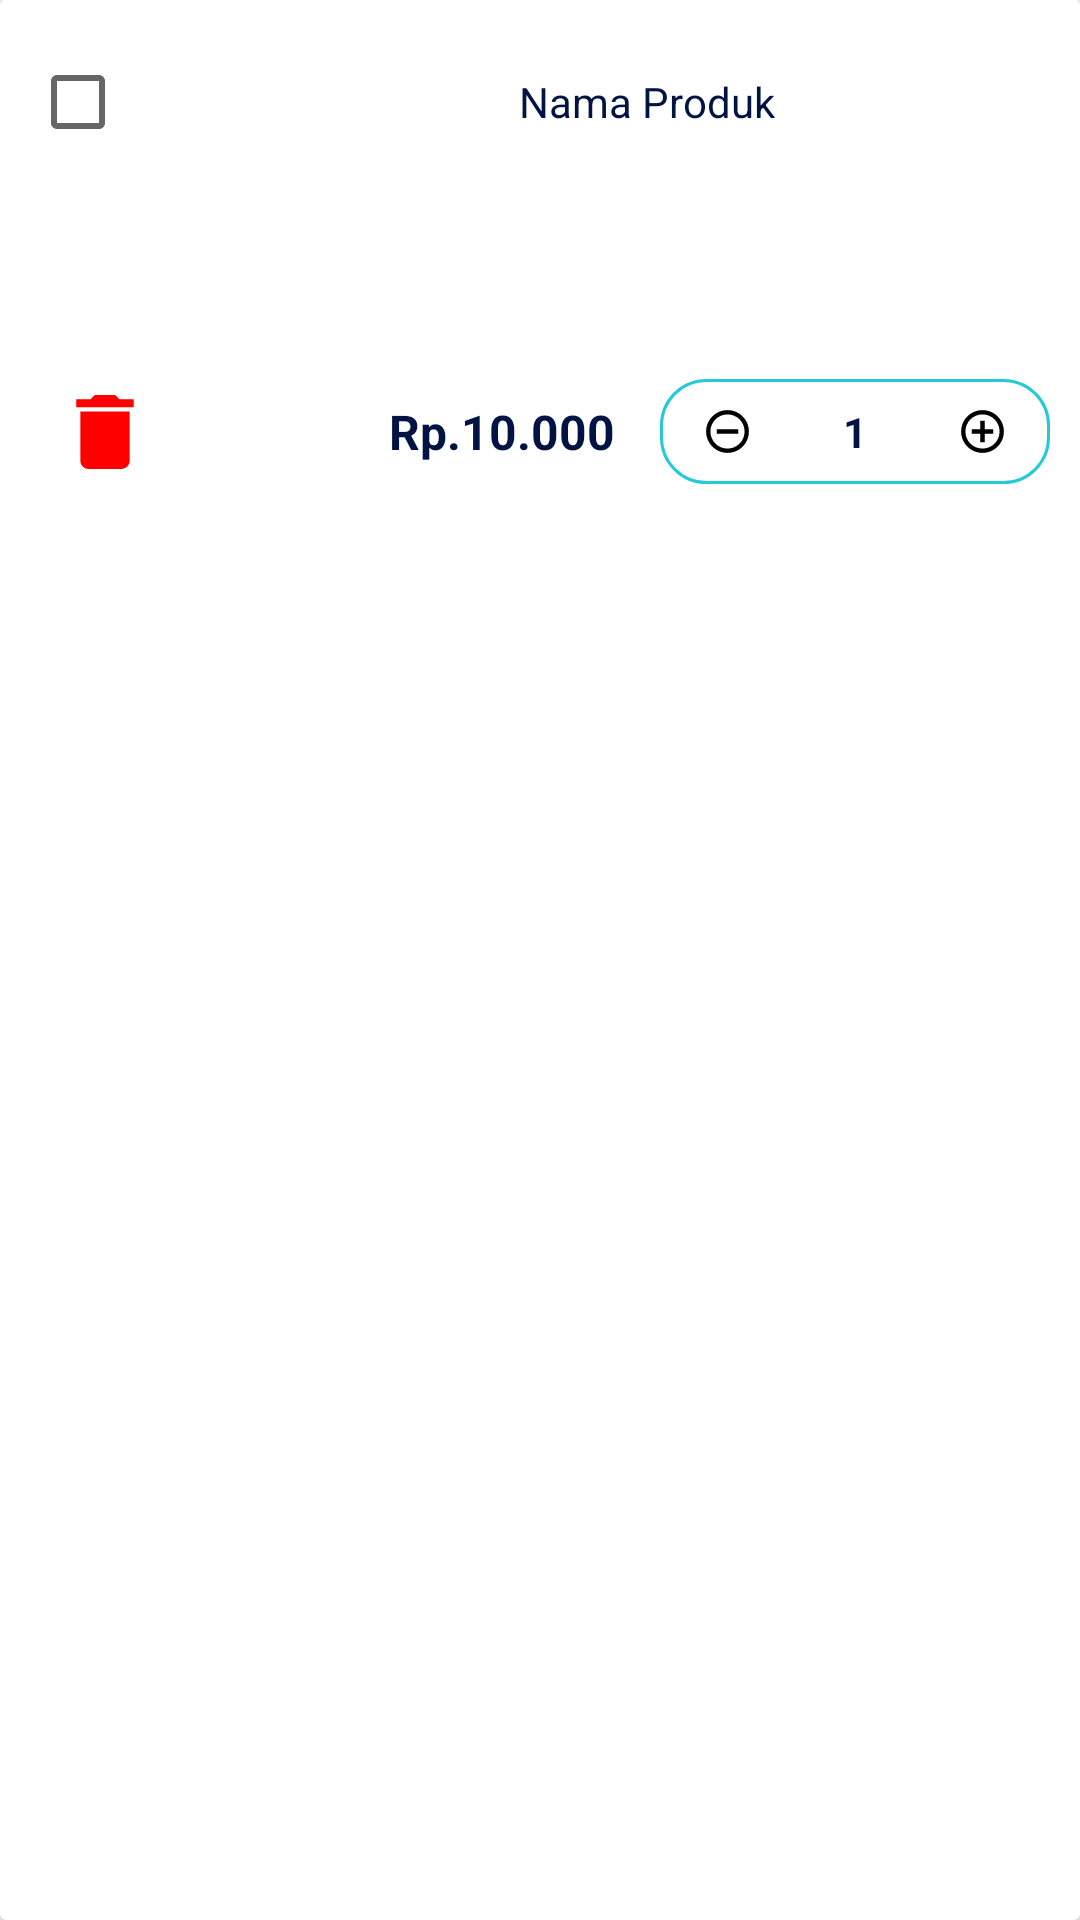

Screen size 1080 x 1920. Icon name, then its center in pixels as point (x, y):
hapus: point (105, 432)
kurangg: point (727, 431)
tambah: point (982, 431)
